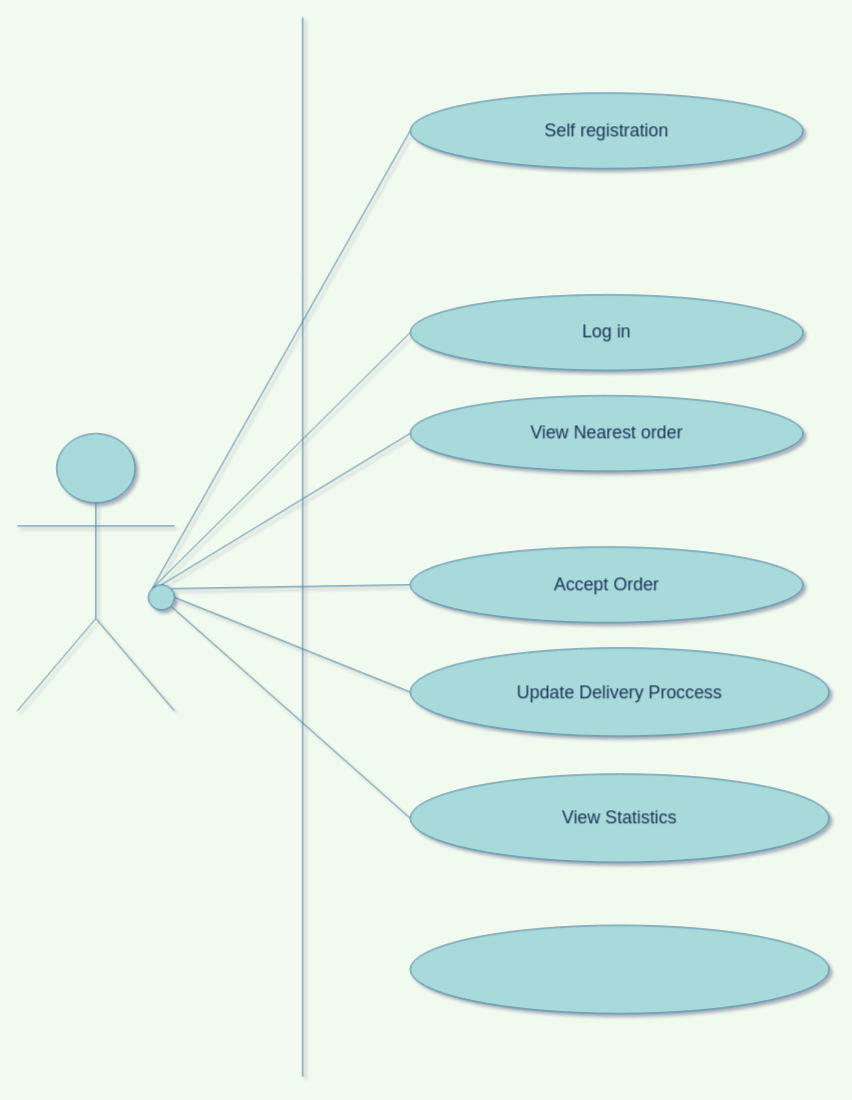
This 852x1100 diagram has some shape labels left out. The shapes that lost their labels are listed below. From the top down, each one's box as (x1, y1, x2, y2) in pixels, then its label:
(16, 433, 174, 711): DeliveryMan
(409, 924, 829, 1014): View Review and Rating
